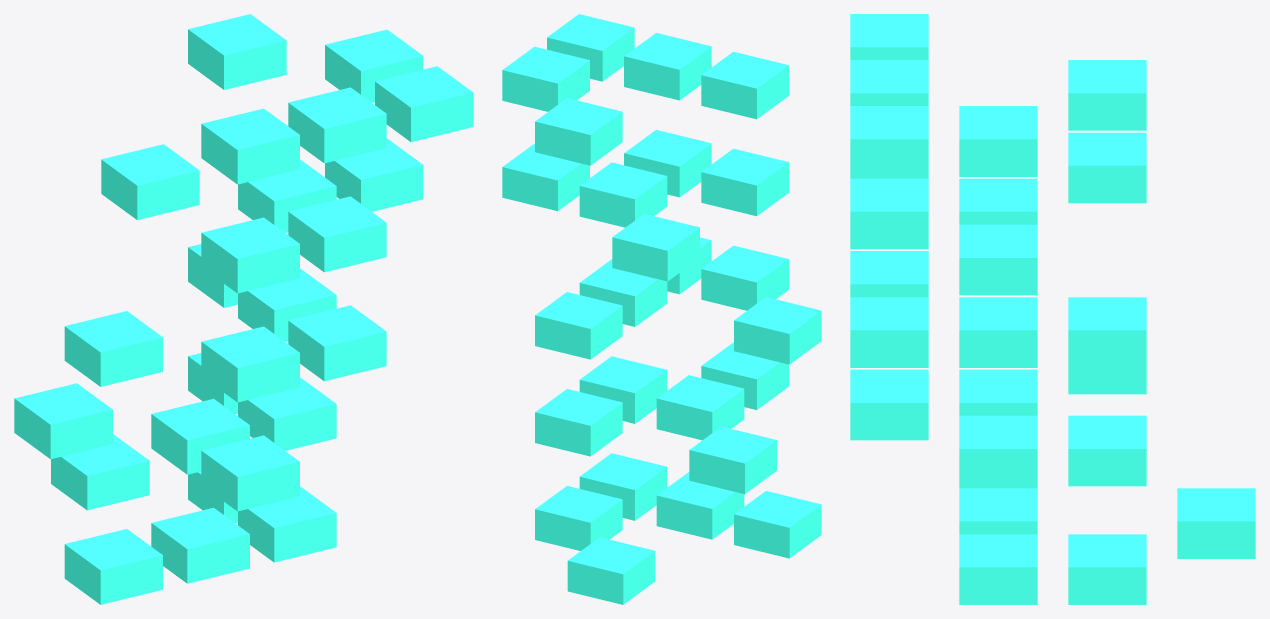
The model's file is nexah-life-orbit-glider-p1.glb.
3 views of the same model, side by side, from view 1: azimuth 30°, elevation 25°; view 2: azimuth 150°, elevation 25°; view 3: azimuth 270°, elevation 25° (orthographic). The views are drawn at different scales.
Visible parts, largest first — view 1: cell_t004_x04_y06, cell_t001_x03_y04, cell_t003_x04_y06, cell_t002_x03_y05, cell_t002_x04_y06, cell_t001_x04_y06, cell_t003_x04_y04, cell_t000_x03_y05, cell_t004_x05_y04, cell_t004_x06_y06, cell_t003_x05_y06, cell_t004_x05_y06 (+13 smaller); view 2: cell_t000_x04_y03, cell_t002_x05_y04, cell_t001_x03_y04, cell_t002_x03_y05, cell_t004_x05_y04, cell_t001_x05_y04, cell_t003_x04_y06, cell_t003_x04_y04, cell_t000_x03_y05, cell_t004_x04_y06, cell_t004_x05_y06, cell_t001_x04_y05 (+13 smaller); view 3: cell_t001_x05_y04, cell_t001_x05_y05, cell_t001_x04_y06, cell_t003_x04_y04, cell_t003_x06_y05, cell_t003_x05_y06, cell_t000_x04_y03, cell_t000_x05_y04, cell_t000_x05_y05, cell_t002_x05_y04, cell_t002_x05_y05, cell_t002_x05_y06 (+10 smaller).
Part boxes in pixels (<box>): cell_t004_x04_y06: <box>201,108,299,184</box>; cell_t001_x03_y04: <box>14,383,112,459</box>; cell_t003_x04_y06: <box>201,217,299,293</box>; cell_t002_x03_y05: <box>64,311,162,386</box>; cell_t002_x04_y06: <box>201,326,299,402</box>; cell_t001_x04_y06: <box>201,435,299,511</box>; cell_t003_x04_y04: <box>101,144,199,219</box>; cell_t000_x03_y05: <box>64,529,162,604</box>; cell_t004_x05_y04: <box>188,14,286,89</box>; cell_t004_x06_y06: <box>375,66,473,142</box>; cell_t003_x05_y06: <box>288,196,386,272</box>; cell_t004_x05_y06: <box>288,87,386,163</box>; cell_t000_x04_y03: <box>567,537,655,604</box>; cell_t002_x05_y04: <box>535,292,622,359</box>; cell_t001_x03_y04: <box>689,426,776,494</box>; cell_t002_x03_y05: <box>734,297,821,364</box>; cell_t004_x05_y04: <box>535,98,622,165</box>; cell_t001_x05_y04: <box>535,389,622,456</box>; cell_t003_x04_y06: <box>701,148,788,216</box>; cell_t003_x04_y04: <box>612,214,699,281</box>; cell_t000_x03_y05: <box>734,491,821,558</box>; cell_t004_x04_y06: <box>701,51,788,119</box>; cell_t004_x05_y06: <box>624,33,711,100</box>; cell_t001_x04_y05: <box>656,375,744,440</box>; cell_t001_x05_y04: <box>1068,415,1146,486</box>; cell_t001_x05_y05: <box>959,415,1037,486</box>; cell_t001_x04_y06: <box>850,369,928,440</box>; cell_t003_x04_y04: <box>1068,132,1146,203</box>; cell_t003_x06_y05: <box>959,224,1037,295</box>; cell_t003_x05_y06: <box>850,178,928,249</box>; cell_t000_x04_y03: <box>1177,488,1255,558</box>; cell_t000_x05_y04: <box>1068,534,1146,604</box>; cell_t000_x05_y05: <box>959,534,1037,604</box>; cell_t002_x05_y04: <box>1068,297,1146,367</box>; cell_t002_x05_y05: <box>959,297,1037,367</box>; cell_t002_x05_y06: <box>850,297,928,367</box>.
Bounding box in the file's own units: 3.72 × 5.18 × 3.72.
